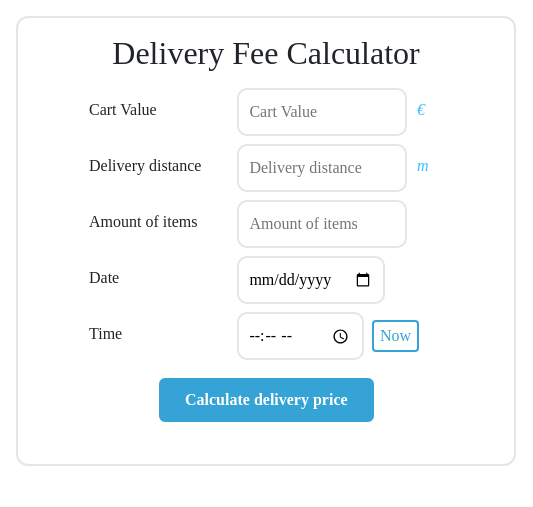
Test: Cart value calculations are correct › Cart value >= 100 shows Free delivery
This screenshot has width=533, height=507.
Type "100" into the number field with test id "input-group" showing "Cart Value" at (322, 112), box [237,88,407,136]
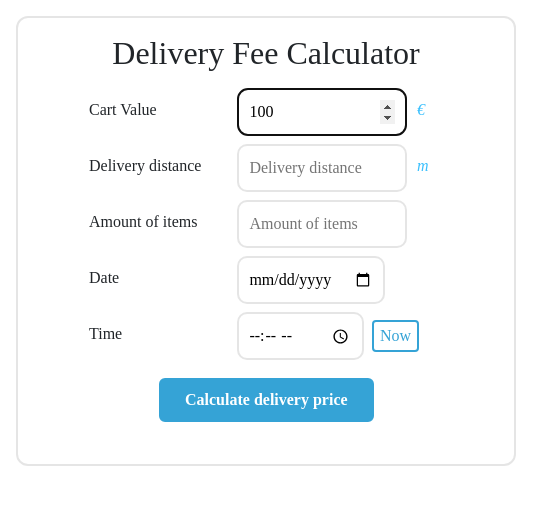
Type "200" into the number field with test id "input-group" showing "Delivery distance" at (322, 168), box [237,144,407,192]
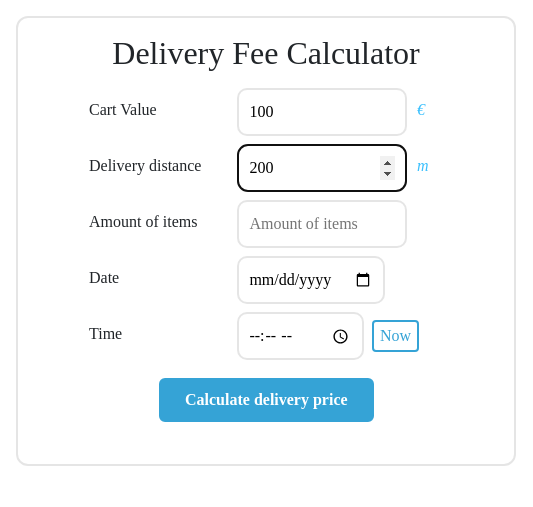
Type "1" into the number field with test id "input-group" showing "Amount of items" at (322, 224), box [237,200,407,248]
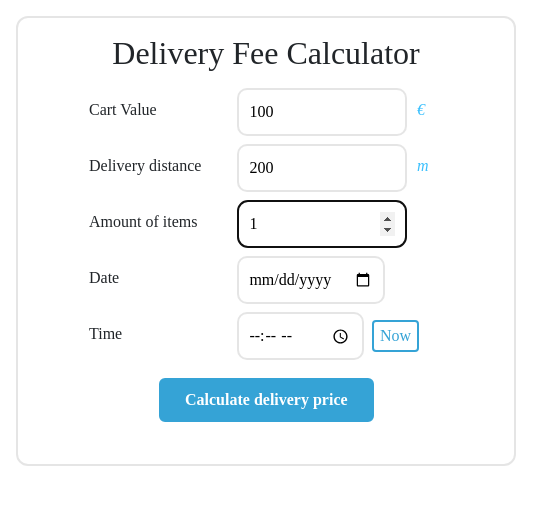
Type "2023-01-16" into the date field with test id "input-group" showing "Date" at (311, 280), box [237,256,385,304]
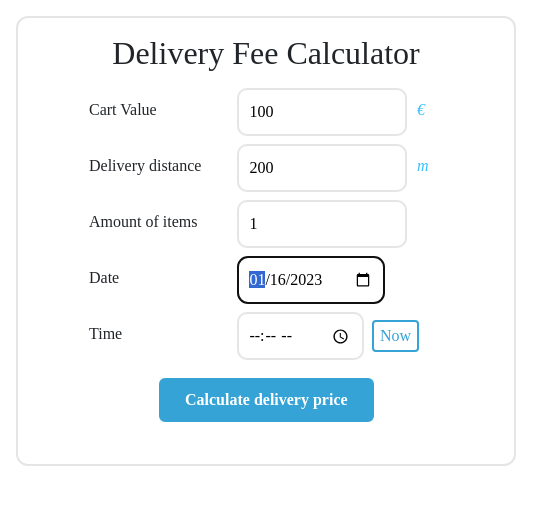
Type "10:30" into the time field with test id "input-group" showing "Time" at (301, 336), box [237,312,364,360]
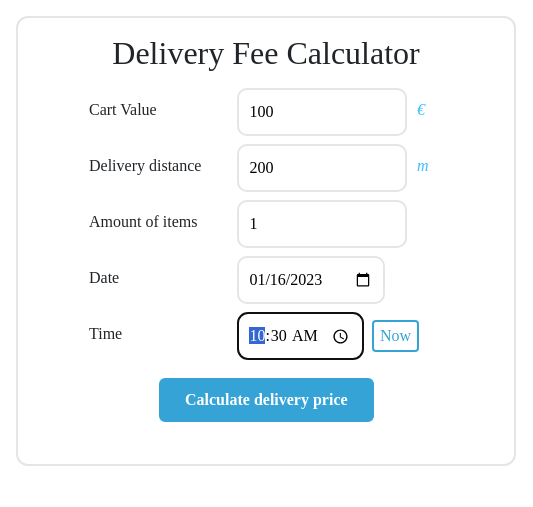
Click the button "Calculate delivery price" at (266, 400), box [159,378,373,422]
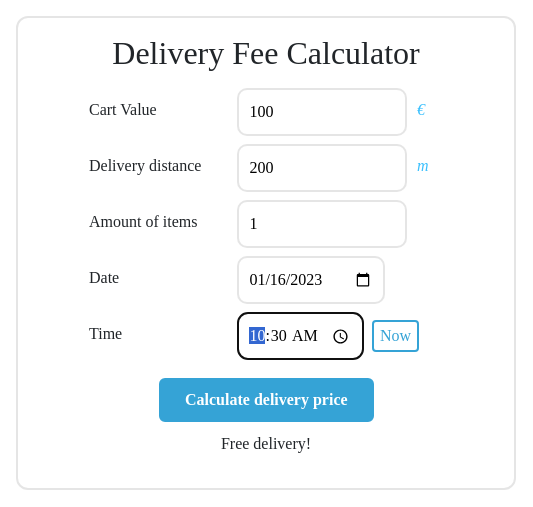
expect the text with test id "result" reads "Free delivery!": met, box [221,435,311,452]
